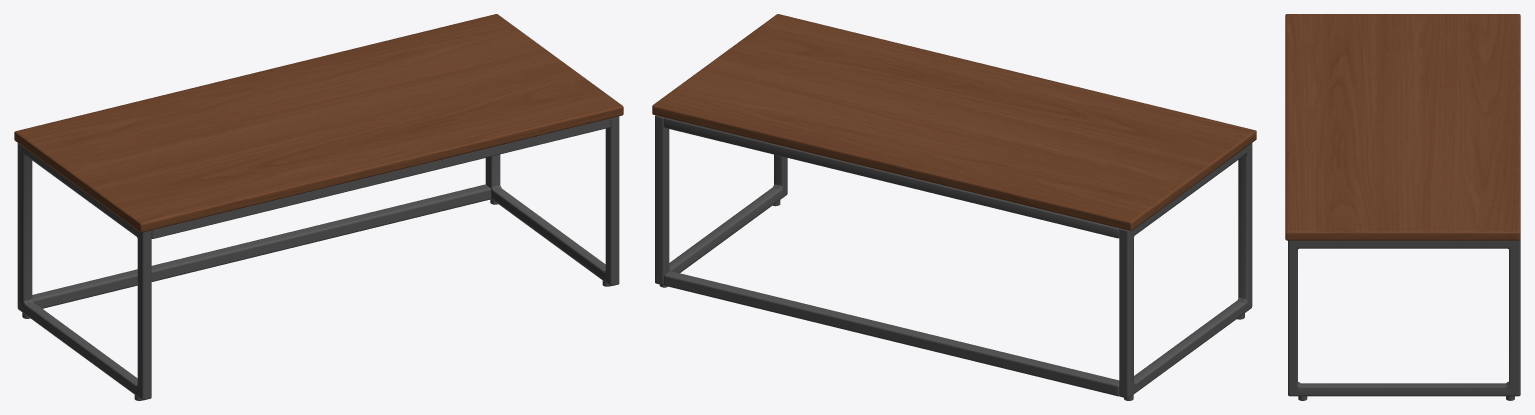
The model's file is Table1.glb.
The picture shows the model from 3 angles, left to right: view 1: azimuth 30°, elevation 25°; view 2: azimuth 150°, elevation 25°; view 3: azimuth 270°, elevation 25°; orthographic projection. The views are drawn at different scales.
Parts seen in each view (by area): view 1: B07VDD47LW; view 2: B07VDD47LW; view 3: B07VDD47LW.
Part boxes in pixels (<box>): B07VDD47LW: <box>14,14,623,400</box>; B07VDD47LW: <box>652,14,1256,400</box>; B07VDD47LW: <box>1285,14,1520,400</box>.
Bounding box in the file's own units: 1.1 × 0.4 × 0.5.
Materials: 1 (1 with a texture image).
